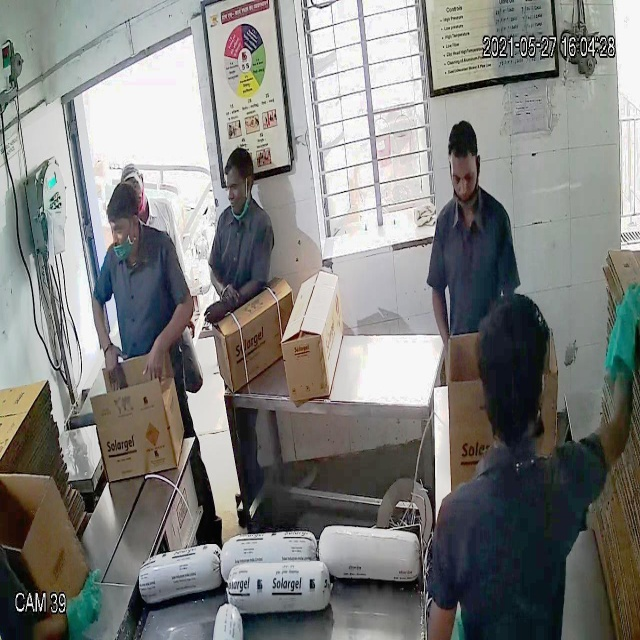Sin_gafas: (440, 164, 488, 200), (104, 211, 143, 247)
